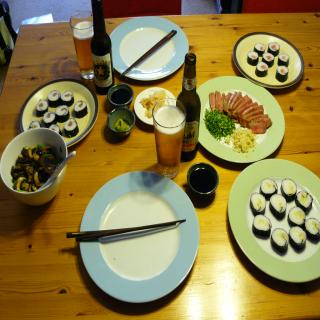Sushi: (251, 179, 320, 252), (248, 42, 280, 76), (249, 194, 266, 214), (276, 64, 288, 81), (278, 53, 289, 65)
